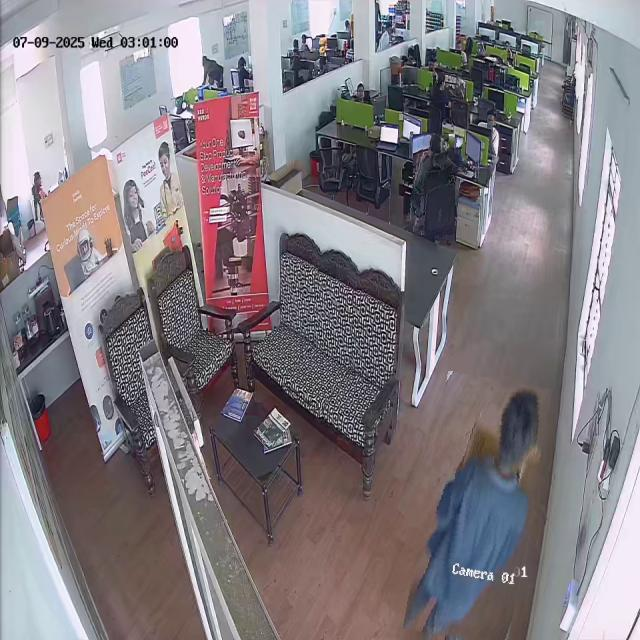person: (414, 374, 541, 640), (409, 133, 459, 236), (26, 170, 49, 199)
